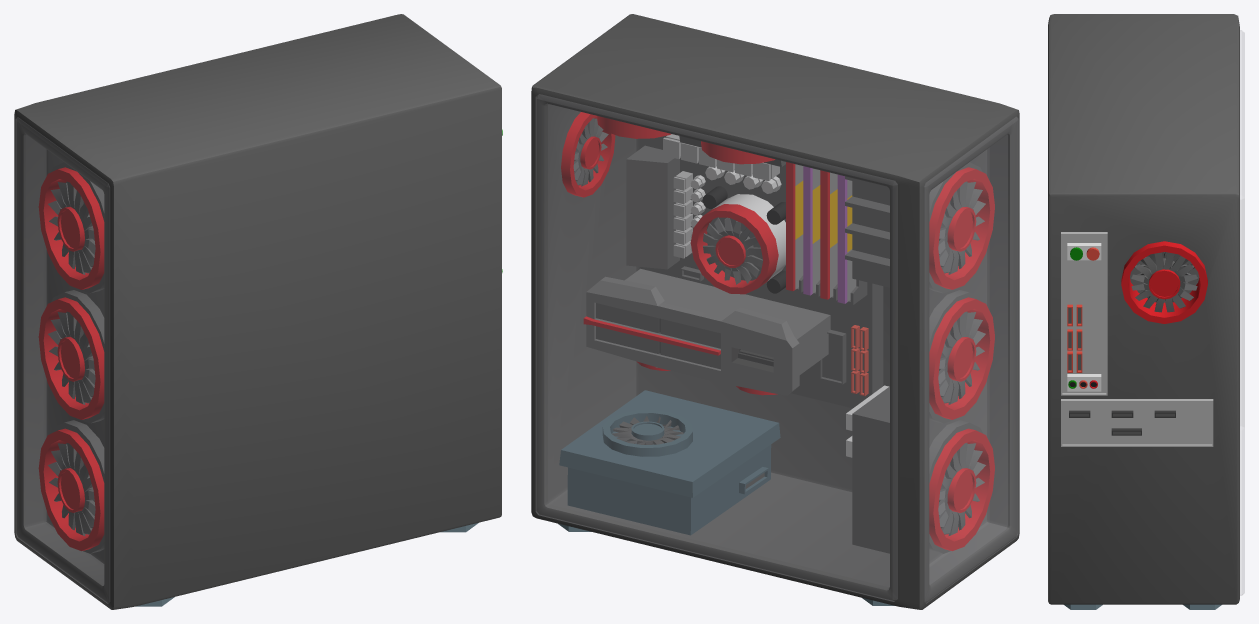
3 renders of one model, left to right at view 1: azimuth 30°, elevation 25°; view 2: azimuth 150°, elevation 25°; view 3: azimuth 270°, elevation 25°, orthographic. The views are drawn at different scales.
Parts seen in each view (by area): view 1: PC02; view 2: PC02; view 3: PC02.
Part boxes in pixels (box(x1,y1,x2,y2)): PC02: box(14, 14, 502, 609); PC02: box(531, 14, 1019, 609); PC02: box(1048, 14, 1244, 609).
Bounding box in the file's own units: 0.304 × 0.1351 × 0.3192.
